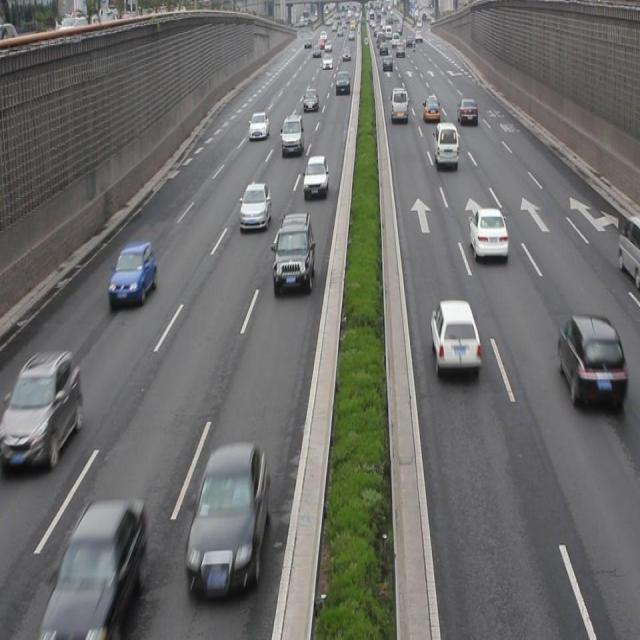car: (48, 498, 144, 640), (184, 440, 267, 597), (10, 350, 81, 468), (556, 313, 626, 409), (430, 297, 481, 371), (272, 212, 314, 294), (108, 240, 156, 304), (468, 207, 508, 259), (239, 182, 270, 232), (303, 155, 328, 198), (457, 96, 477, 128), (249, 110, 269, 141), (423, 94, 439, 122)
truck: (617, 216, 640, 285), (433, 121, 458, 166), (281, 113, 303, 156), (388, 87, 408, 123)
